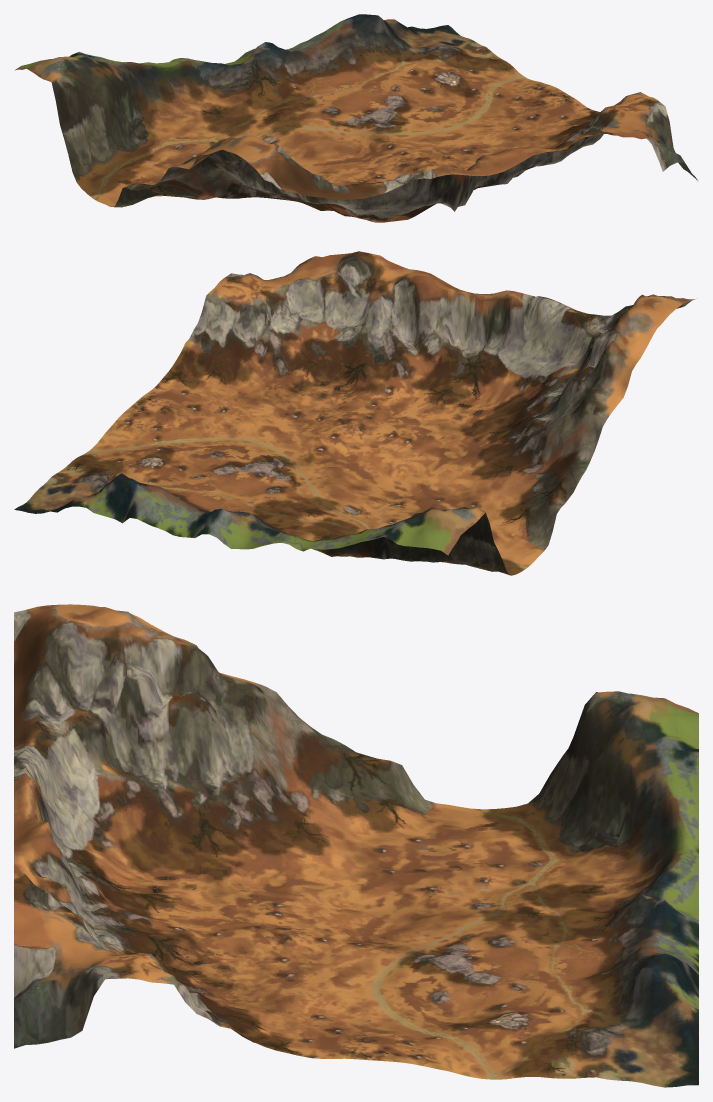
The model's file is TeraMapTile01.obj.
3 views of the same model, one above another, from view 1: azimuth 30°, elevation 25°; view 2: azimuth 150°, elevation 25°; view 3: azimuth 270°, elevation 25° (orthographic). The views are drawn at different scales.
Visible parts, largest first — view 1: ANC_B_4658_SL; view 2: ANC_B_4658_SL; view 3: ANC_B_4658_SL.
Part boxes in pixels (<box>): ANC_B_4658_SL: <box>15,14,697,222</box>; ANC_B_4658_SL: <box>14,251,695,575</box>; ANC_B_4658_SL: <box>14,604,698,1087</box>.
Bounding box in the file's own units: 15360 × 5209 × 15360.
